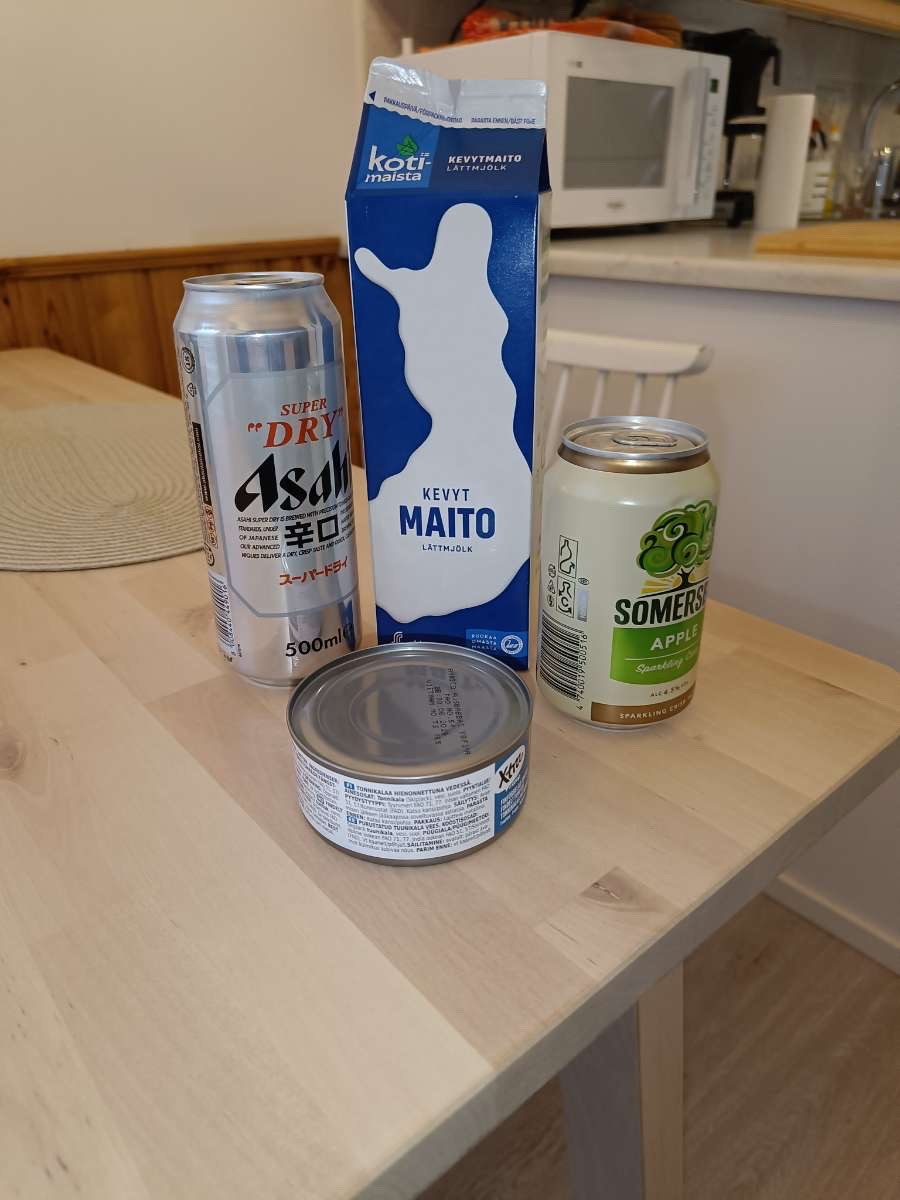Dryckeskartong: (339, 50, 551, 672)
Konservburk: (280, 645, 546, 866)
Pantburk: (151, 248, 369, 687), (535, 409, 727, 741)
